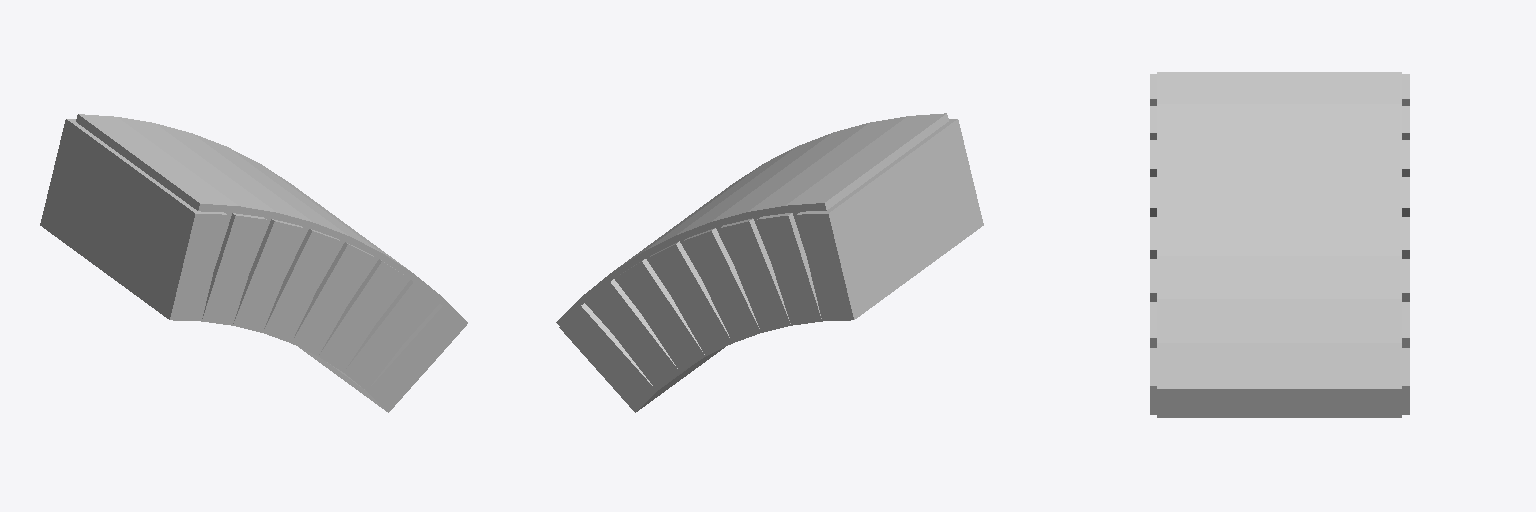
The model's file is lime_mortar_orange_clay_brick_segmental_arch_3.obj.
3 renders of one model, left to right at view 1: azimuth 30°, elevation 25°; view 2: azimuth 150°, elevation 25°; view 3: azimuth 270°, elevation 25°, orthographic.
Parts seen in each view (by area): view 1: brick.020, cube.123, brick.013, brick.018, brick.019, brick.014, brick.017, brick.016, brick.015, cube.124, cube.125, cube.126 (+2 smaller); view 2: brick.020, cube.123, brick.013, brick.019, brick.018, brick.017, brick.014, brick.016, brick.015, cube.124, cube.125, cube.126 (+2 smaller); view 3: cube.130, cube.129, cube.128, cube.127, cube.126, cube.125, cube.124, cube.123, brick.013, brick.014, brick.015, brick.016 (+2 smaller).
Boxes of the visible parts, x1,y1,x2,y2 form: brick.020: [40, 119, 226, 321]; cube.123: [76, 114, 238, 268]; brick.013: [299, 304, 464, 412]; brick.018: [233, 219, 304, 332]; brick.019: [202, 213, 266, 325]; brick.014: [327, 280, 436, 390]; brick.017: [263, 229, 340, 342]; brick.016: [291, 242, 374, 355]; brick.015: [318, 259, 406, 372]; cube.124: [118, 117, 276, 270]; cube.125: [157, 124, 313, 276]; cube.126: [192, 133, 348, 287]; brick.020: [797, 119, 983, 321]; cube.123: [786, 113, 948, 252]; brick.013: [559, 303, 724, 412]; brick.019: [757, 213, 821, 325]; brick.018: [719, 218, 790, 332]; brick.017: [683, 228, 760, 342]; brick.014: [587, 279, 696, 390]; brick.016: [649, 241, 732, 355]; brick.015: [617, 259, 705, 372]; cube.124: [747, 116, 906, 258]; cube.125: [711, 123, 867, 261]; cube.126: [676, 133, 831, 275]; cube.130: [1157, 343, 1401, 417]; cube.129: [1157, 299, 1401, 342]; cube.128: [1157, 256, 1401, 298]; cube.127: [1157, 214, 1401, 255]; cube.126: [1157, 175, 1401, 213]; cube.125: [1157, 138, 1401, 174]; cube.124: [1157, 104, 1401, 137]; cube.123: [1157, 72, 1401, 103]; brick.013: [1150, 348, 1409, 414]; brick.014: [1150, 302, 1409, 347]; brick.015: [1150, 259, 1409, 301]; brick.016: [1150, 217, 1409, 258].
Size of the model in its own units: 1.43 by 1.14 by 1.06.